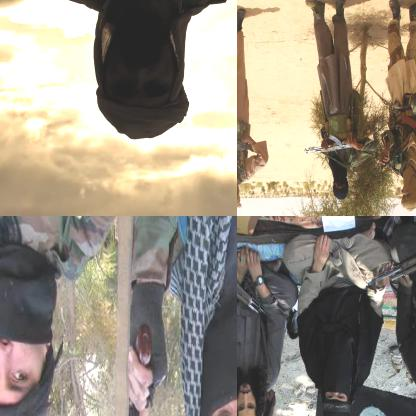rifle: (112, 318, 168, 415), (364, 216, 415, 298), (377, 79, 415, 174), (298, 118, 378, 158), (237, 216, 268, 319), (237, 108, 265, 156)
